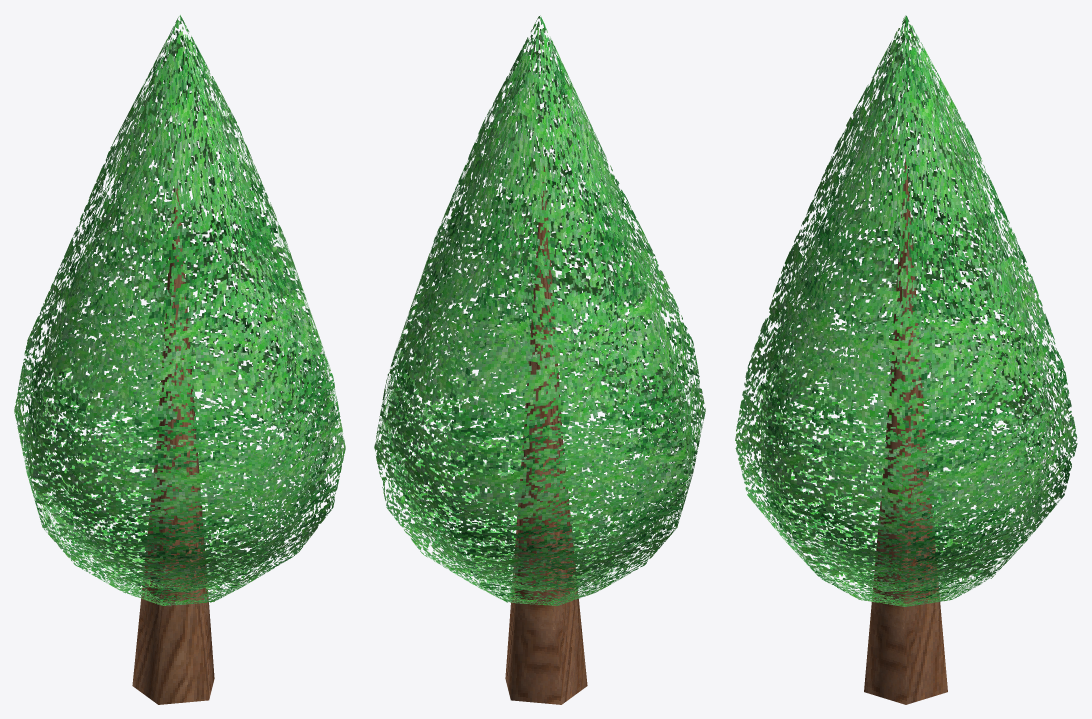
Rendered from obj_0402_tree3.obj.
3 views of the same model, side by side, from view 1: azimuth 30°, elevation 25°; view 2: azimuth 150°, elevation 25°; view 3: azimuth 270°, elevation 25° (orthographic).
Parts seen in each view (by area): view 1: object 1, 2; view 2: object 1, 2; view 3: object 1, 2.
Part boxes in pixels (box(x1,y1,x2,y2)): object 1: box(14, 15, 345, 605); 2: box(132, 182, 214, 704); object 1: box(374, 15, 705, 605); 2: box(505, 154, 587, 704); object 1: box(735, 15, 1077, 606); 2: box(864, 154, 947, 704).
Bounding box in the file's own units: 1.51 × 3.27 × 1.51.
Materials: 2 (2 with a texture image).
